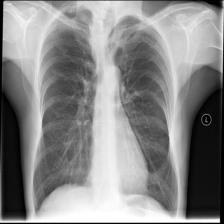normal: (28, 2, 180, 218)
